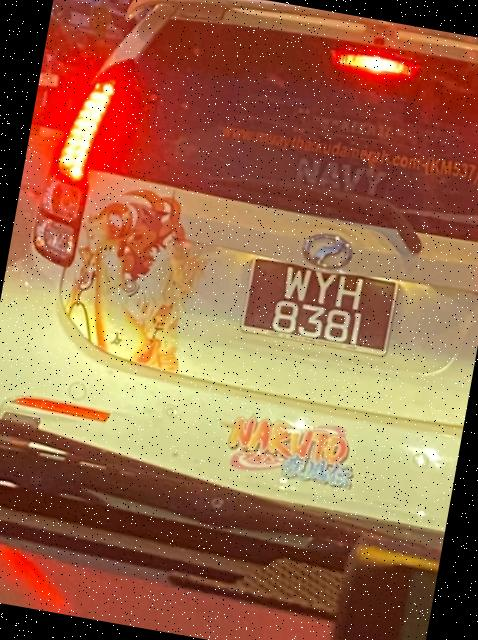License_Plate: (254, 261, 388, 354)
car: (1, 1, 478, 563)
